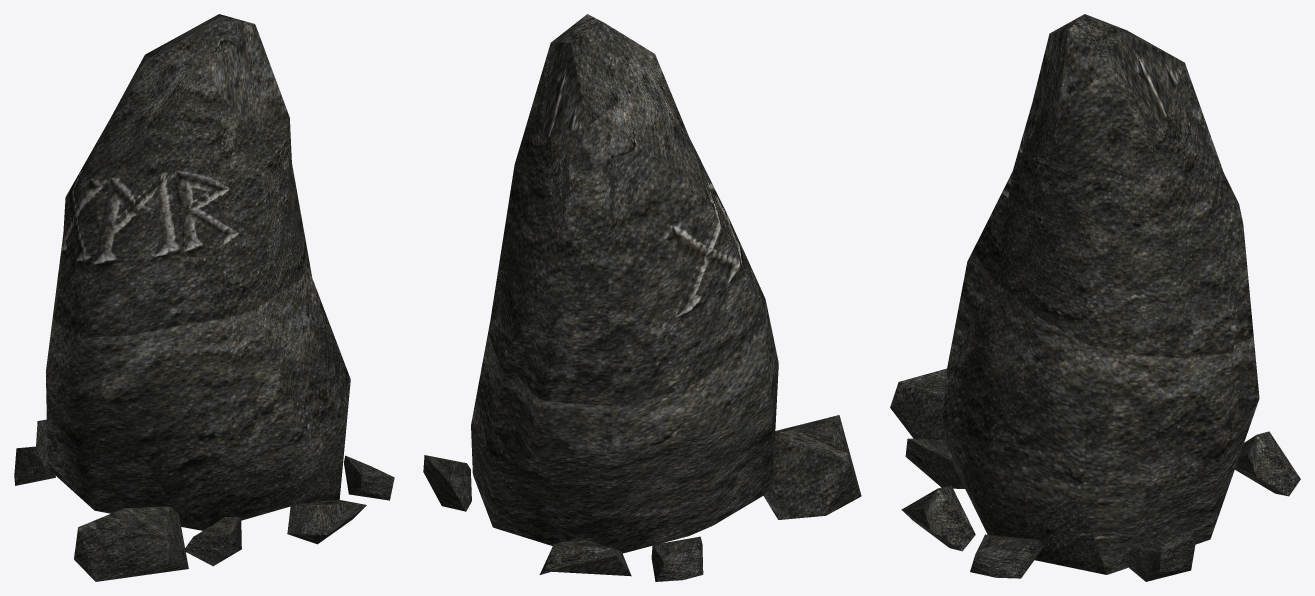
Rendered from mm9_deco_runestonegm.glb.
3 renders of one model, left to right at view 1: azimuth 30°, elevation 25°; view 2: azimuth 150°, elevation 25°; view 3: azimuth 270°, elevation 25°, orthographic. The views are drawn at different scales.
Visible parts, largest first — view 1: Runestonegm; view 2: Runestonegm; view 3: Runestonegm.
Part boxes in pixels (box(x1,y1,x2,y2)): Runestonegm: box(14, 14, 394, 581); Runestonegm: box(423, 14, 861, 581); Runestonegm: box(890, 14, 1300, 581).
Bounding box in the file's own units: 1.76 × 2.33 × 1.74.
2 materials, 2 textured.
